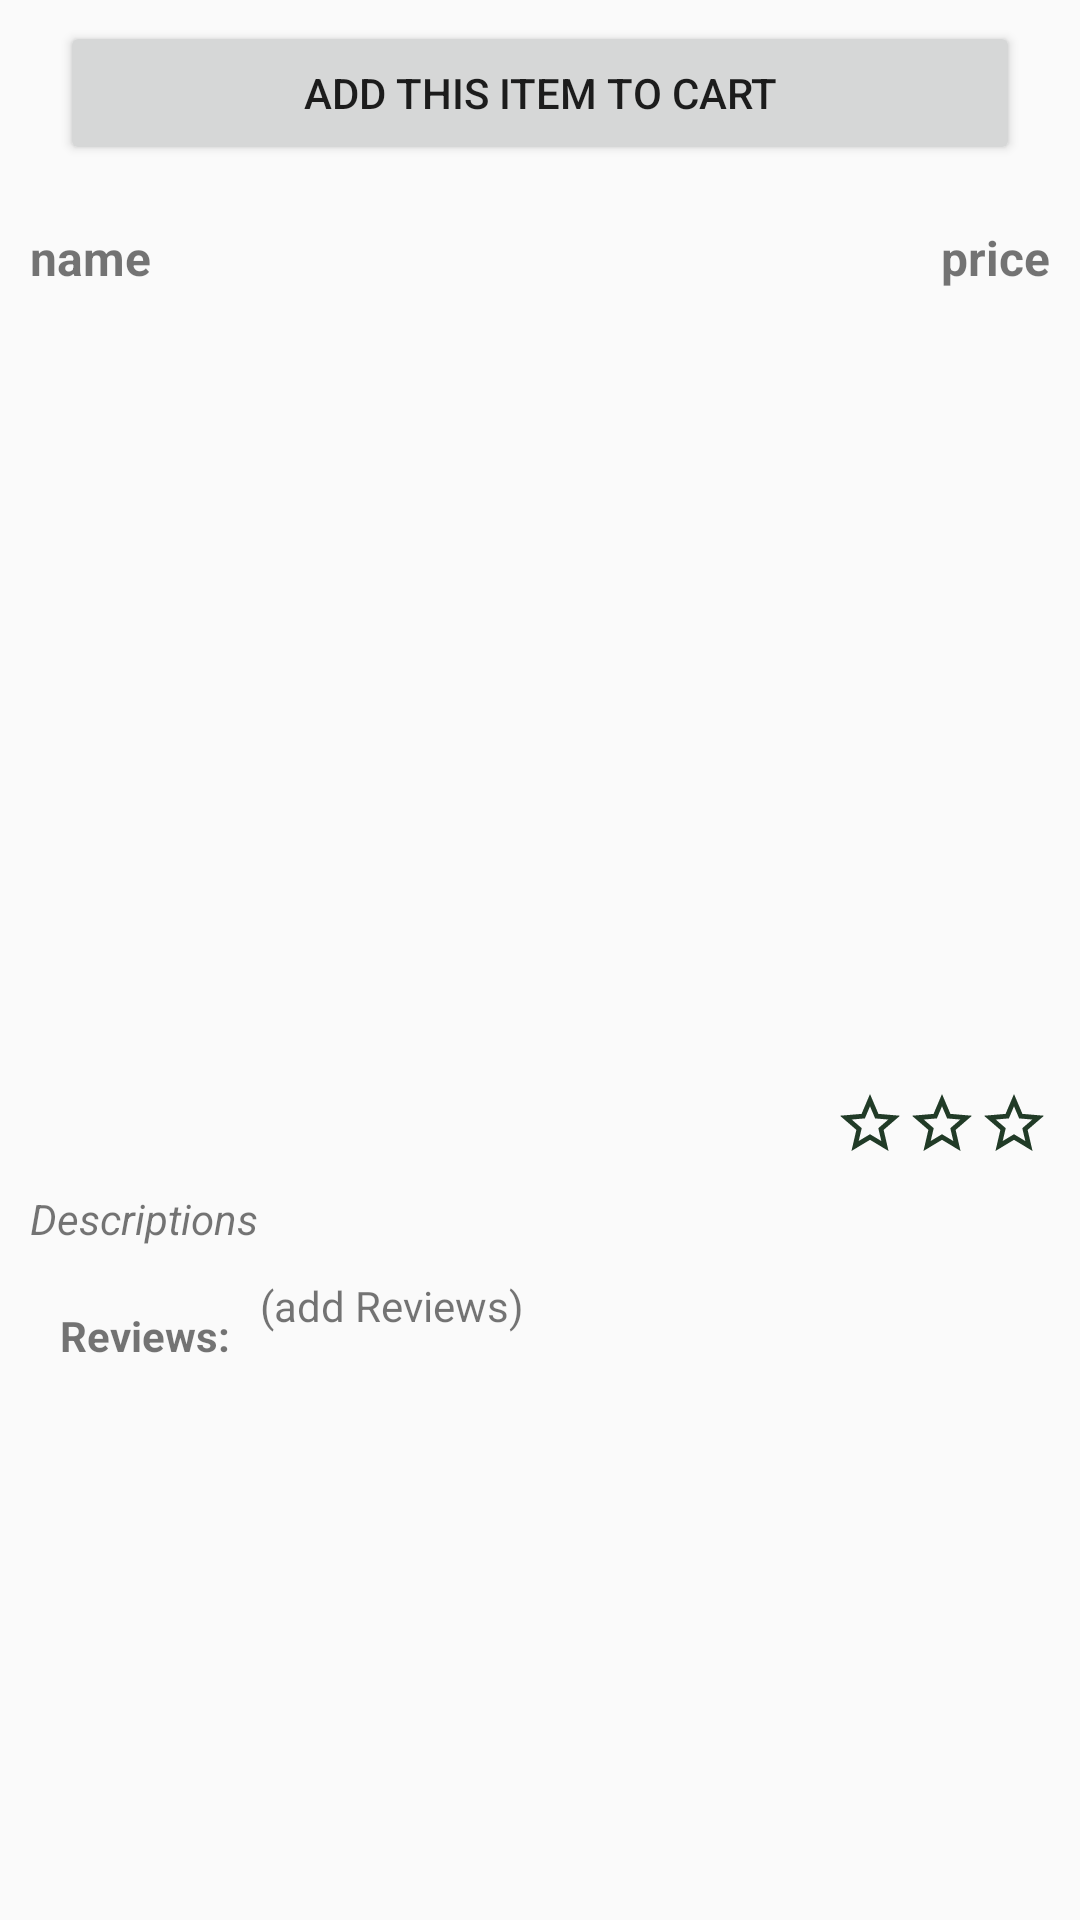

Locate icon controls on the screen. Image size 1080*1920, boxes as (x1, y1, x2, y2).
star: (840, 1094, 900, 1151), (912, 1094, 972, 1151), (984, 1094, 1044, 1151)
